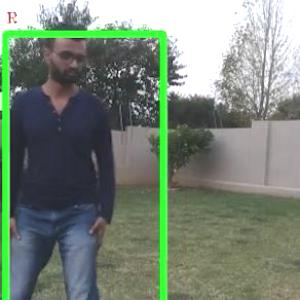follow: (12, 5, 115, 299)
